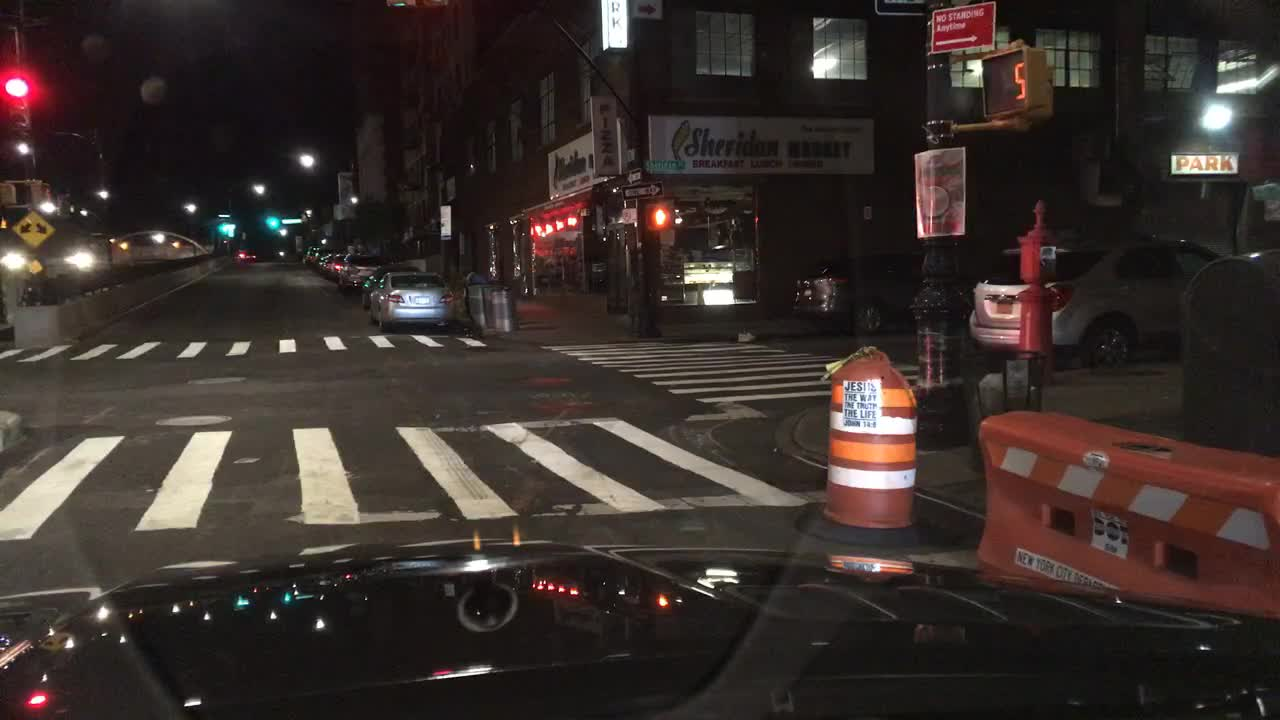car: (967, 222, 1224, 369), (794, 256, 917, 333), (369, 267, 456, 330), (108, 230, 208, 264), (358, 267, 401, 312), (338, 247, 374, 291), (231, 244, 258, 265), (326, 253, 344, 278), (302, 243, 317, 263), (317, 255, 328, 273)
traffic light: (981, 37, 1050, 126), (0, 67, 44, 111), (647, 202, 672, 234), (0, 178, 18, 211), (216, 220, 237, 239), (266, 214, 281, 230)
traffic sign: (931, 5, 995, 53), (13, 208, 54, 249), (874, 0, 927, 16), (619, 184, 666, 197), (439, 202, 452, 241), (617, 209, 637, 224), (28, 259, 44, 275), (627, 170, 642, 180)
